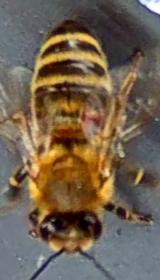varroa_mite: (74, 104, 106, 130)
